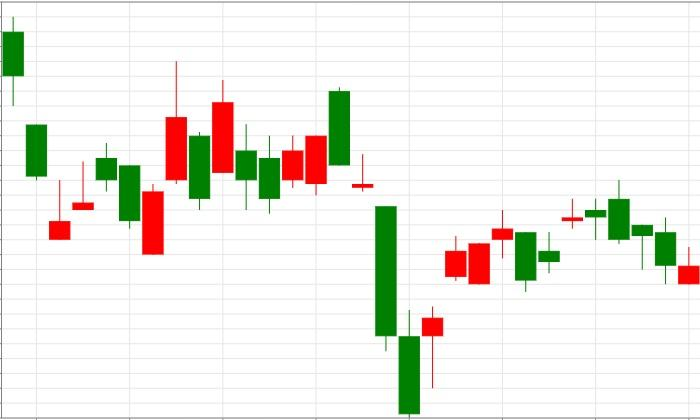inverse_hammer_rise: (2, 16, 71, 241)
